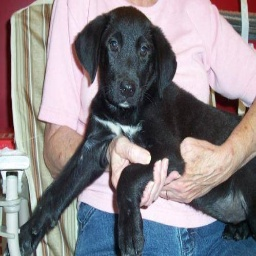dog: (23, 4, 256, 251)
